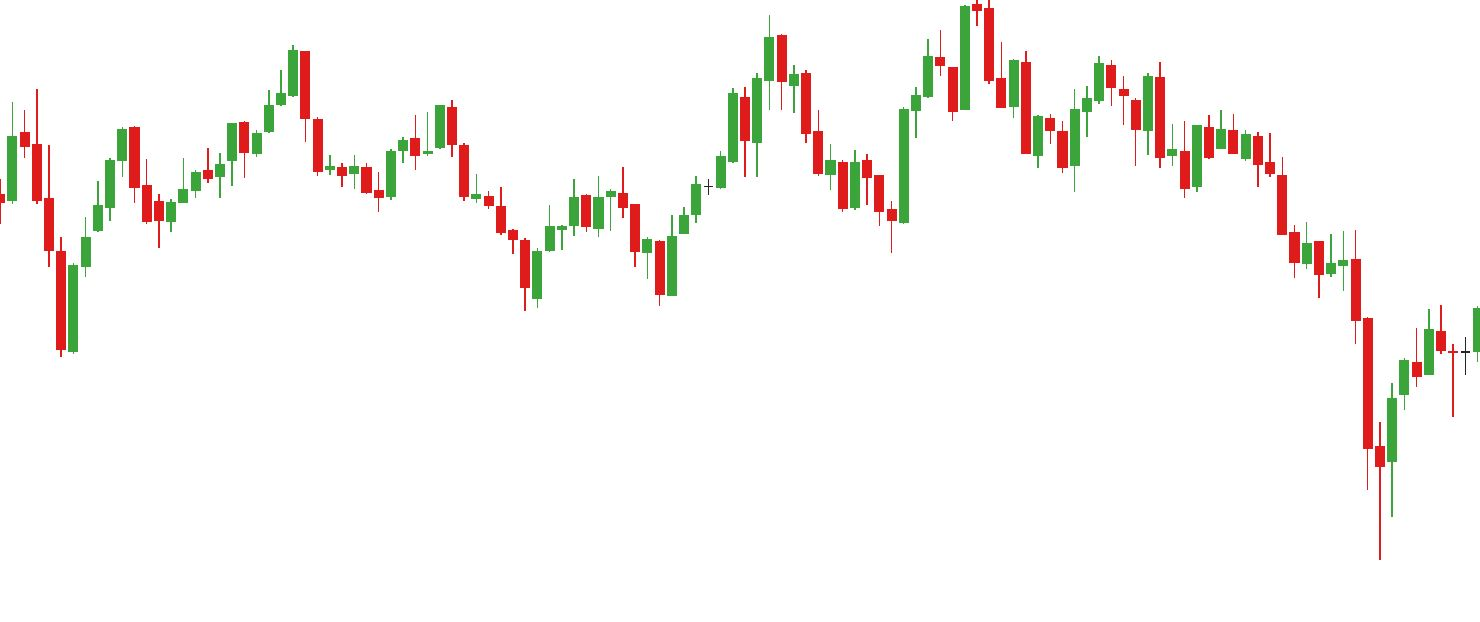buy: (542, 203, 652, 288)
